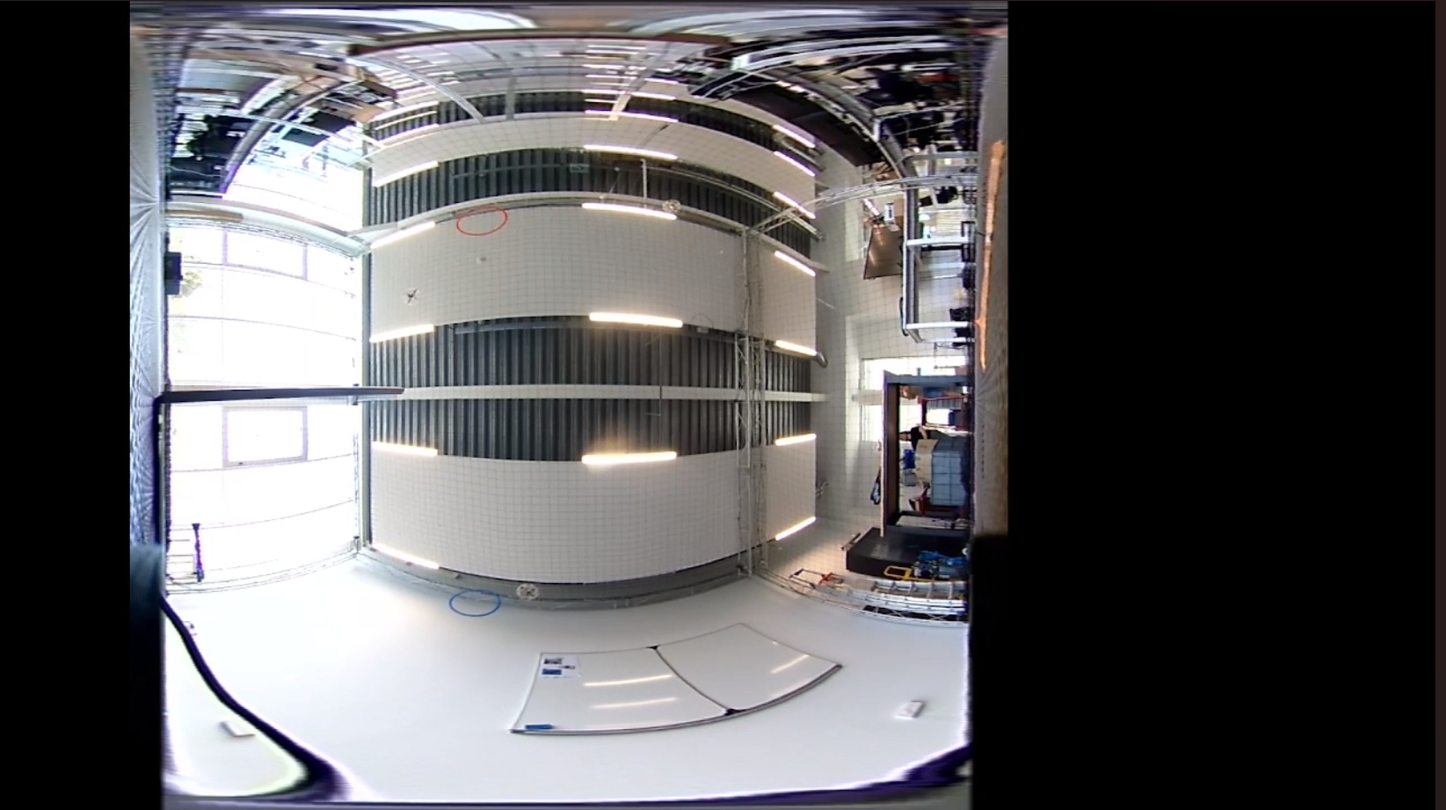Drone: (515, 582, 540, 602), (399, 288, 425, 307), (662, 199, 681, 214)
